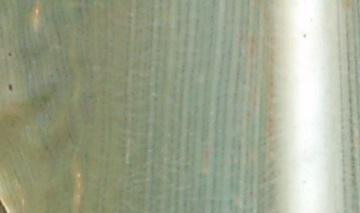tarspot: (6, 82, 14, 92), (301, 32, 306, 39), (6, 51, 11, 58)
